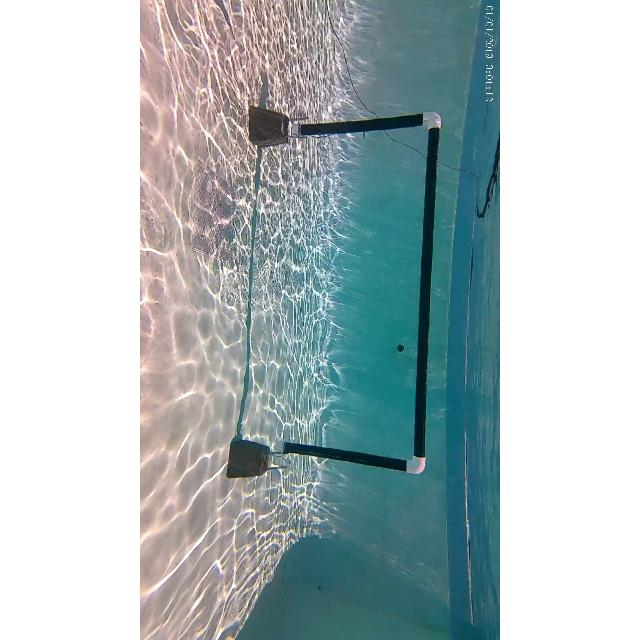prequal gate: (276, 110, 440, 476)
prequal gate leg l: (252, 110, 442, 150)
prequal gate leg r: (224, 421, 431, 493)
